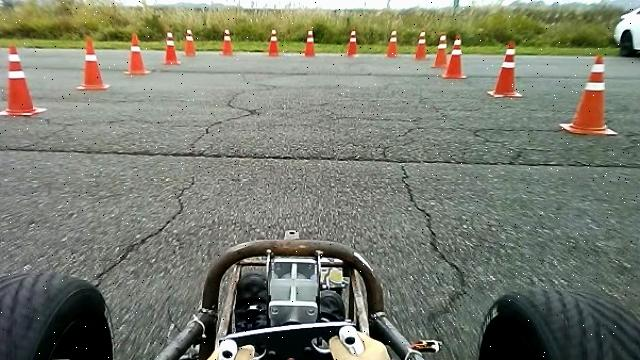red cone: (559, 54, 619, 136), (0, 44, 47, 116), (487, 39, 524, 97), (76, 35, 112, 91), (124, 32, 152, 75), (442, 33, 468, 78), (162, 31, 182, 65), (432, 33, 448, 68), (414, 30, 429, 60), (303, 27, 317, 56), (184, 27, 198, 56), (346, 28, 360, 56), (386, 29, 400, 56), (268, 27, 281, 55), (221, 28, 234, 55)
